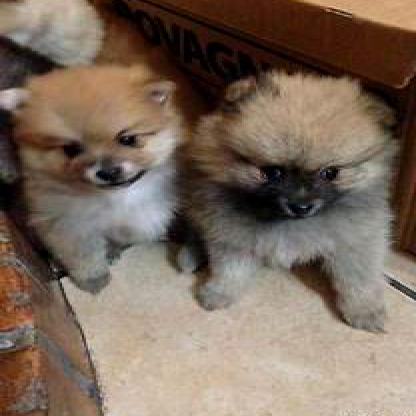dog: (192, 67, 404, 334), (0, 64, 202, 295)
